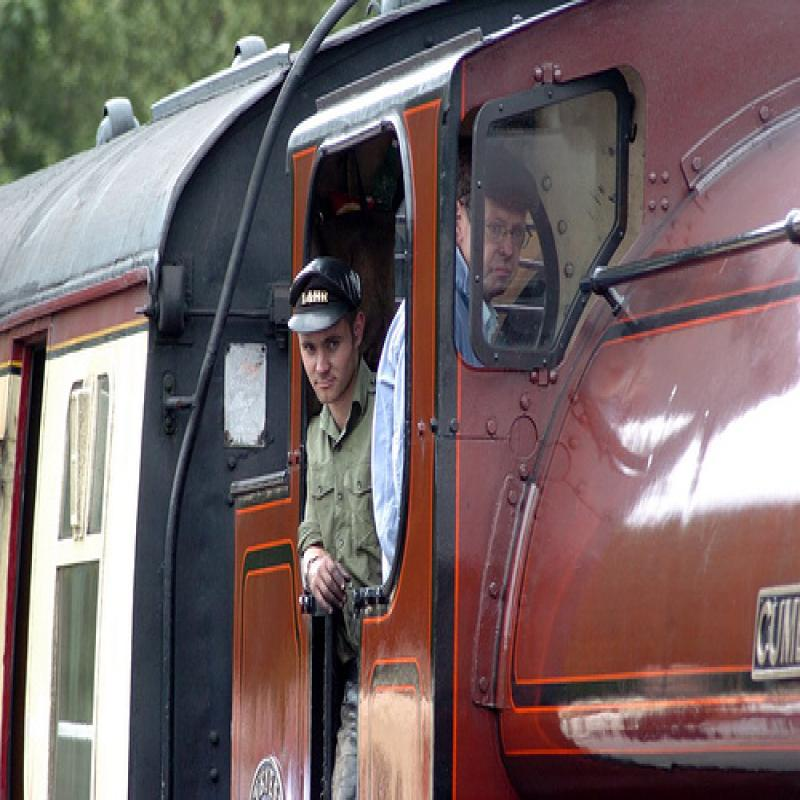train: (2, 3, 800, 800)
